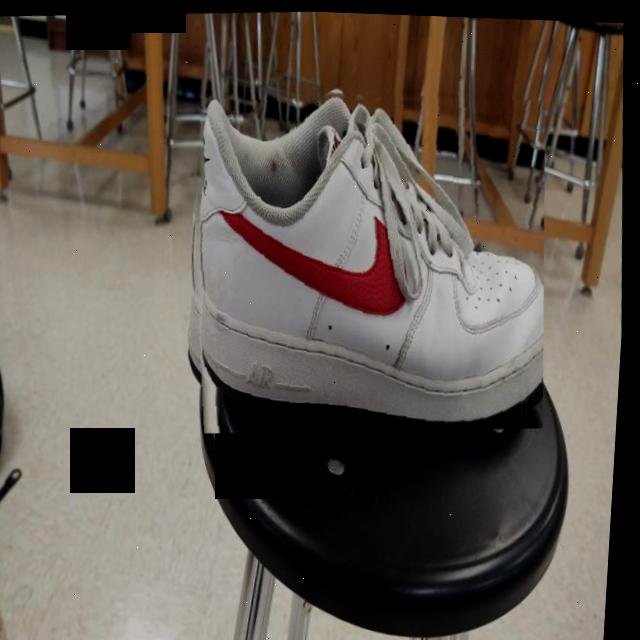shoe: (173, 68, 564, 442)
